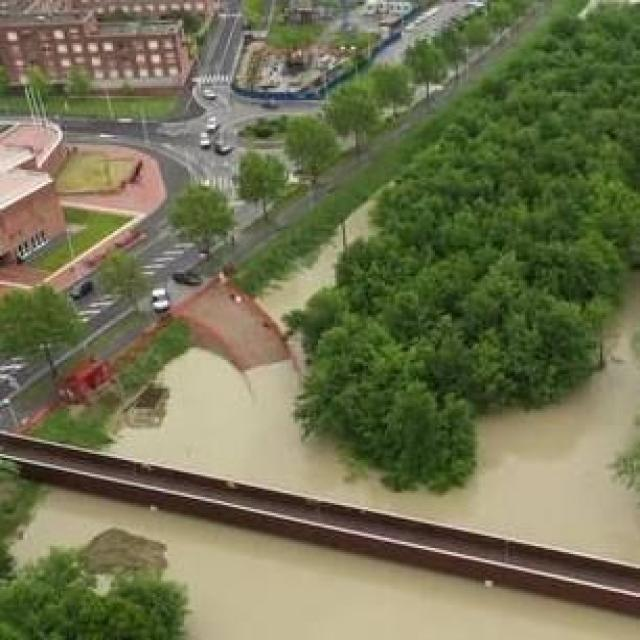flooded_areas: (54, 69, 636, 638)
